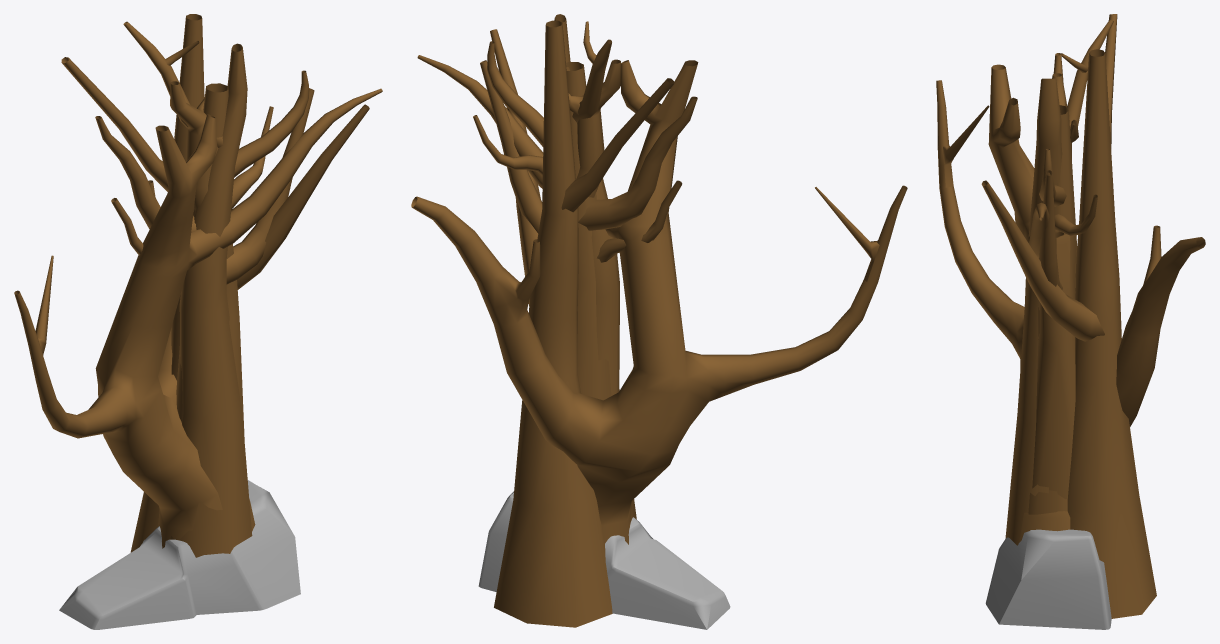
File: WG_BASEBG_TreesRocksModels.fbx
The picture shows the model from 3 angles, left to right: view 1: azimuth 30°, elevation 25°; view 2: azimuth 150°, elevation 25°; view 3: azimuth 270°, elevation 25°; orthographic projection. The views are drawn at different scales.
Visible parts, largest first — view 1: Tree03, Tree05, Rock03, Tree04, Tree01, Tree02; view 2: Tree03, Tree04, Rock03, Tree01, Tree05, Tree02; view 3: Tree04, Tree03, Rock03, Tree05, Tree02, Tree01.
Boxes of the visible parts, x1,y1,x2,y2 form: Tree03: (14, 88, 382, 549); Tree05: (123, 21, 314, 557); Rock03: (59, 480, 300, 629); Tree04: (61, 14, 369, 552); Tree01: (95, 70, 308, 421); Tree02: (111, 81, 273, 439); Tree03: (411, 55, 907, 544); Tree04: (490, 20, 674, 627); Rock03: (478, 491, 730, 629); Tree01: (487, 41, 697, 400); Tree05: (480, 14, 636, 528); Tree02: (473, 59, 682, 262); Tree04: (981, 14, 1156, 618); Tree03: (936, 64, 1205, 542); Rock03: (985, 529, 1111, 629); Tree05: (1005, 20, 1113, 545); Tree02: (1032, 73, 1097, 499); Tree01: (1028, 53, 1077, 514).
Bounding box in the file's own units: 10.53 × 13.41 × 5.97.
